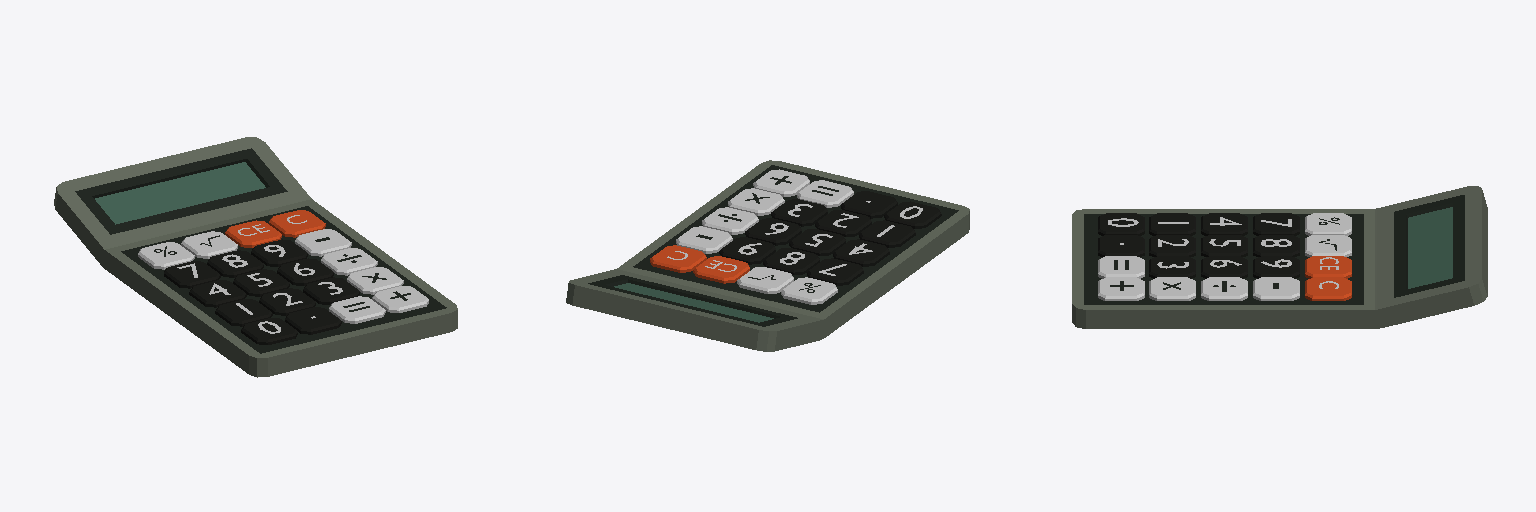
Rendered from Calculator.obj.
The picture shows the model from 3 angles: view 1: azimuth 30°, elevation 25°; view 2: azimuth 150°, elevation 25°; view 3: azimuth 270°, elevation 25°; orthographic projection.
Visible parts, largest first — view 1: Text; view 2: Text; view 3: Text.
Boxes of the visible parts, x1=… form: Text: x1=54, y1=137, x2=457, y2=377; Text: x1=566, y1=160, x2=969, y2=351; Text: x1=1072, y1=186, x2=1487, y2=328.
Bounding box in the file's own units: 1.1 × 0.2286 × 1.91.